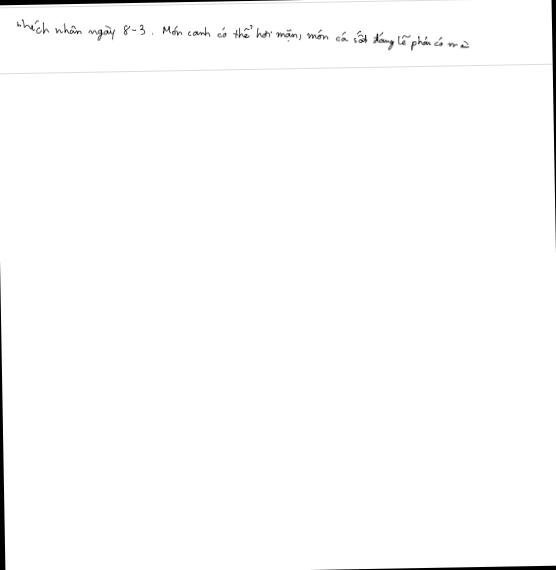text: (11, 8, 474, 59)
